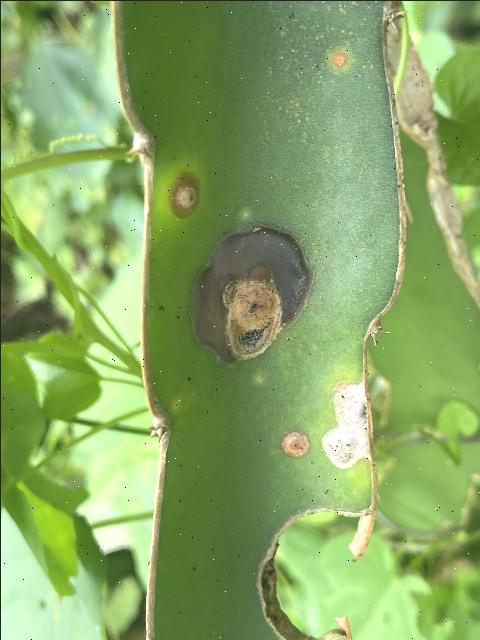stemcanker: (179, 217, 316, 368), (317, 380, 374, 475), (160, 171, 203, 217), (276, 428, 313, 462)
